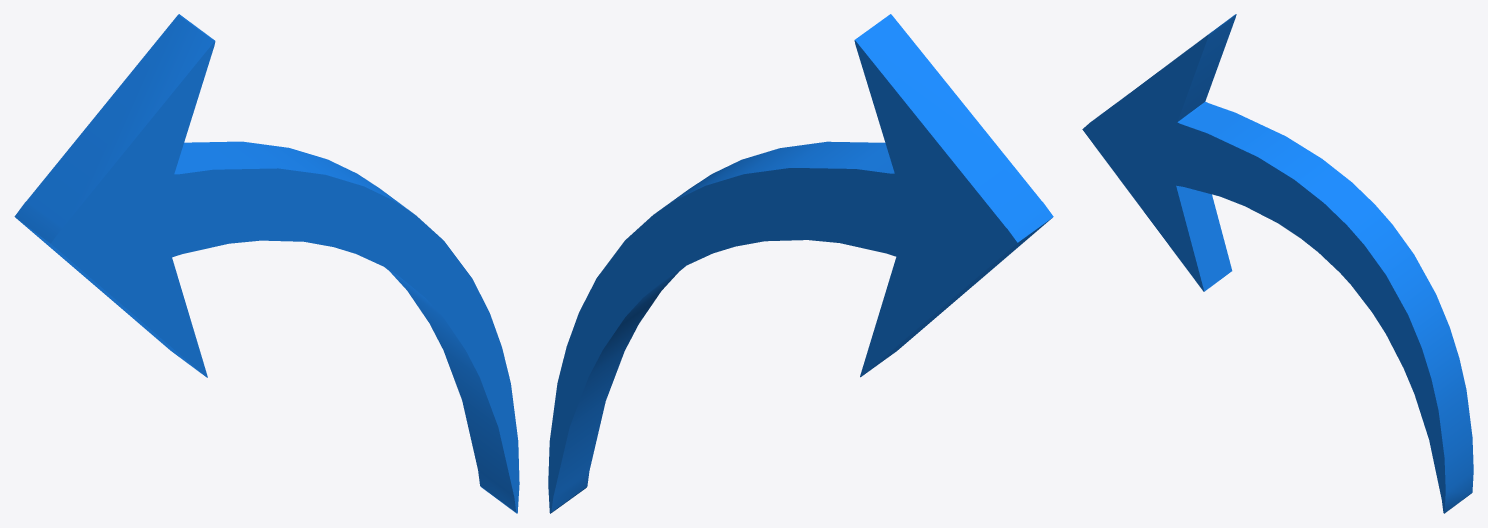
File: arrow_sign_direction_navigation_pointer_symbol.glb
3 renders of one model, left to right at view 1: azimuth 30°, elevation 25°; view 2: azimuth 150°, elevation 25°; view 3: azimuth 330°, elevation 25°, orthographic. The views are drawn at different scales.
Parts seen in each view (by area): view 1: Curve; view 2: Curve; view 3: Curve.
Boxes of the visible parts, <box> form: Curve: <box>14,14,519,513</box>; Curve: <box>548,14,1053,513</box>; Curve: <box>1082,14,1473,513</box>.
Size of the model in its own units: 3.31 by 3.69 by 0.4638.
